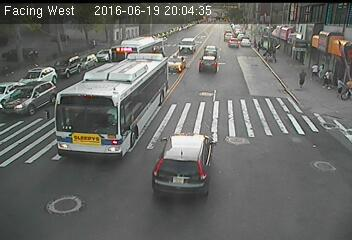neg: (186, 50, 209, 81), (62, 51, 82, 78), (226, 70, 243, 93), (141, 56, 151, 69)
pos: (291, 68, 308, 90), (332, 75, 348, 97)
